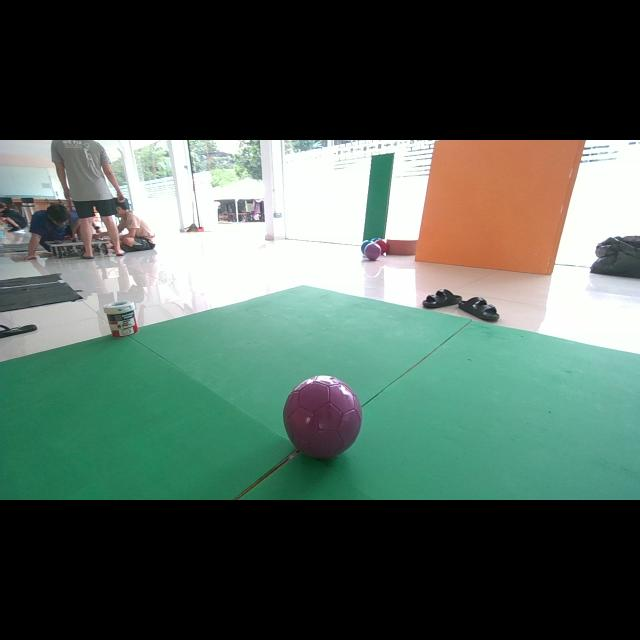R: (284, 375, 362, 458)
